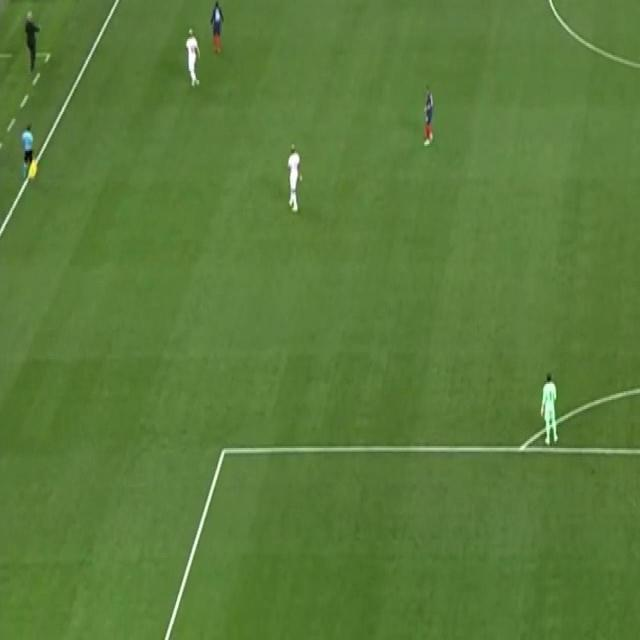Keeper: (540, 371, 560, 445), (21, 124, 35, 180)
another-player: (421, 84, 434, 148), (209, 0, 224, 55)
player-white: (285, 142, 303, 212), (183, 28, 200, 90)
